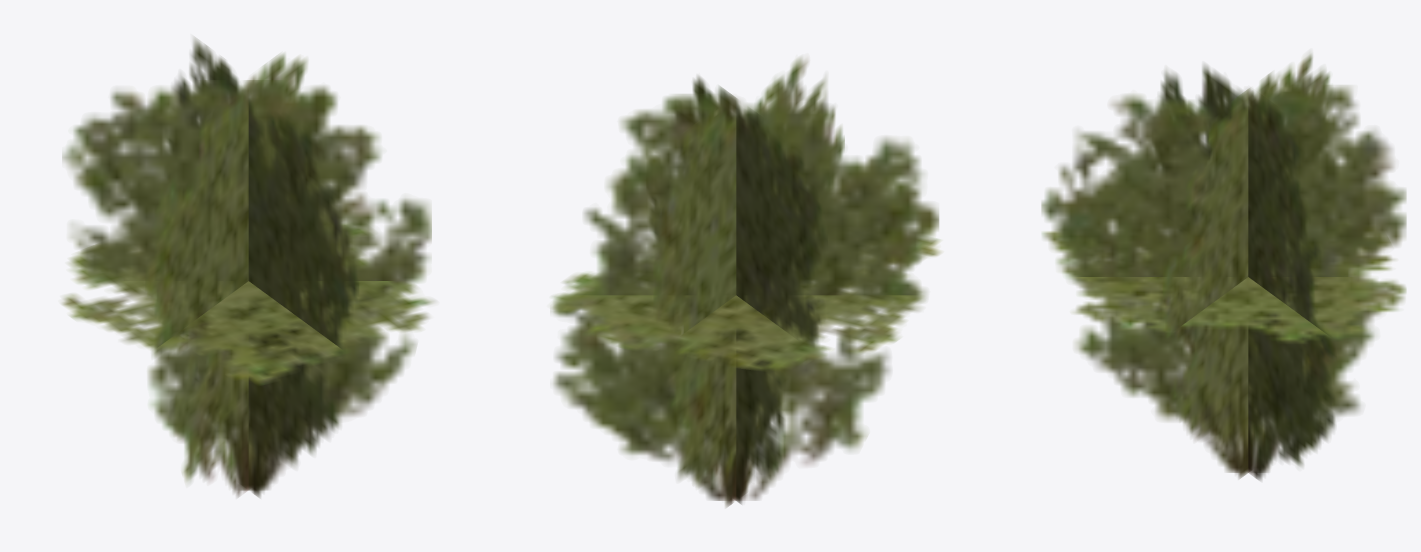
Rendered from tbush2_far.glb.
3 renders of one model, left to right at view 1: azimuth 30°, elevation 25°; view 2: azimuth 150°, elevation 25°; view 3: azimuth 270°, elevation 25°, orthographic. The views are drawn at different scales.
Parts seen in each view (by area): view 1: prefab; view 2: prefab; view 3: prefab.
Part boxes in pixels (bbox=[...]): prefab: bbox=[61, 38, 434, 497]; prefab: bbox=[551, 57, 940, 507]; prefab: bbox=[1041, 53, 1406, 480].
Size of the model in its own units: 1.87 by 2.32 by 1.98.
Materials: 1 (1 with a texture image).
